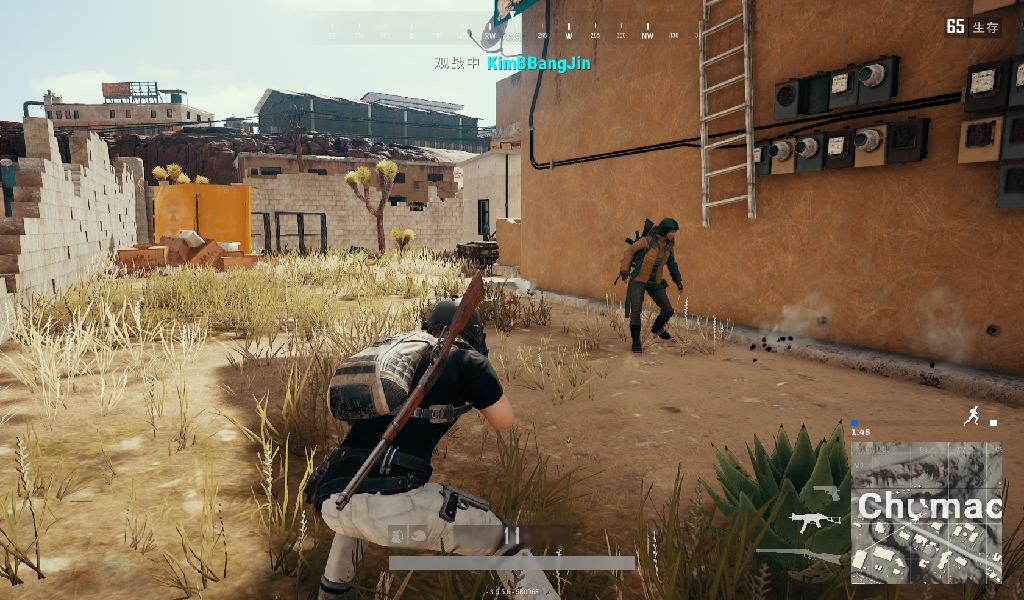Target Person: (306, 296, 568, 600), (611, 215, 686, 355)
